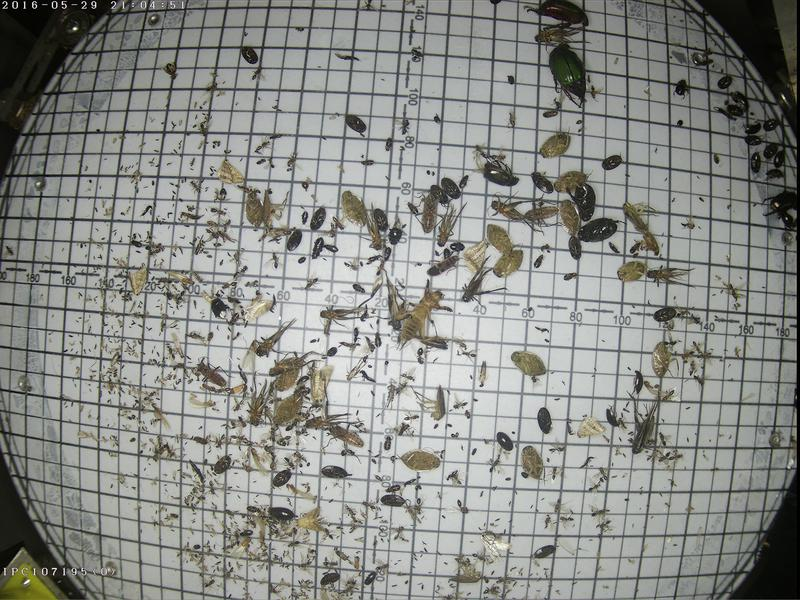Bollworm: (304, 363, 334, 403)
Gryllotalpa orientalis: (392, 277, 451, 349)
Meadow borer: (292, 502, 329, 535)
